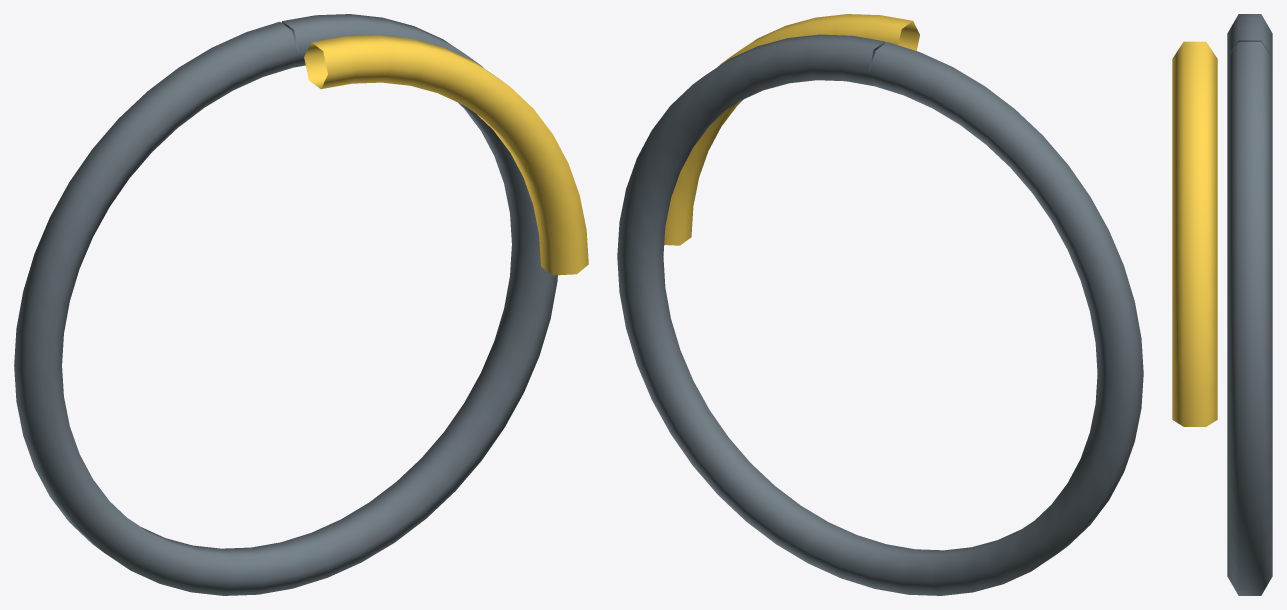
Rendered from progress-25.glb.
3 renders of one model, left to right at view 1: azimuth 30°, elevation 25°; view 2: azimuth 150°, elevation 25°; view 3: azimuth 270°, elevation 25°, orthographic. The views are drawn at different scales.
Parts seen in each view (by area): view 1: background, progress; view 2: background, progress; view 3: background, progress.
Boxes of the visible parts, bbox=[...] form: background: bbox=[14, 14, 557, 595]; progress: bbox=[304, 35, 588, 275]; background: bbox=[617, 34, 1143, 595]; progress: bbox=[664, 14, 919, 245]; background: bbox=[1227, 14, 1272, 595]; progress: bbox=[1172, 41, 1217, 426].
Size of the model in its own units: 0.9006 by 0.9006 by 0.155.
